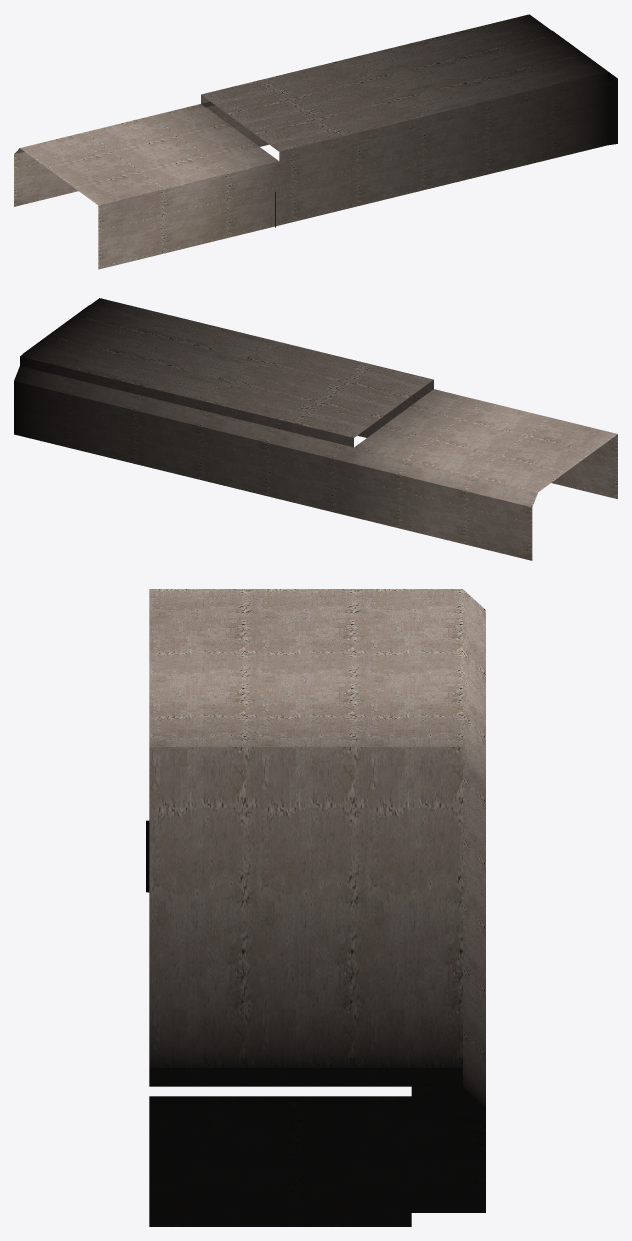
The model's file is M2_Zone4_FlyOver_Tunnel_B.glb.
3 renders of one model, top to bottom at view 1: azimuth 30°, elevation 25°; view 2: azimuth 150°, elevation 25°; view 3: azimuth 270°, elevation 25°, orthographic. The views are drawn at different scales.
Parts seen in each view (by area): view 1: M2_ZONE4_FLYOVER_TUNNEL_B; view 2: M2_ZONE4_FLYOVER_TUNNEL_B; view 3: M2_ZONE4_FLYOVER_TUNNEL_B.
Part boxes in pixels (x1=…): M2_ZONE4_FLYOVER_TUNNEL_B: x1=14, y1=14, x2=617, y2=269; M2_ZONE4_FLYOVER_TUNNEL_B: x1=14, y1=298, x2=617, y2=560; M2_ZONE4_FLYOVER_TUNNEL_B: x1=146, y1=589, x2=485, y2=1226.
Bounding box in the file's own units: 51.67 × 7.09 × 14.65.
3 materials, 2 textured.
